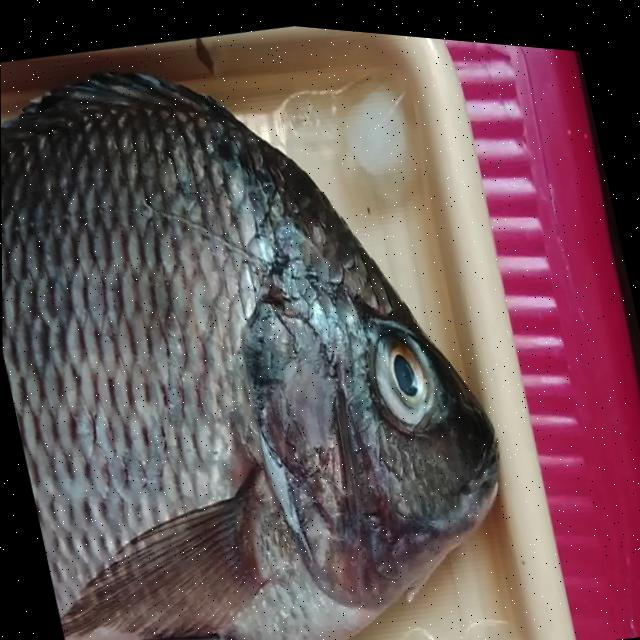Fresh: (0, 36, 392, 640), (360, 311, 445, 435)
